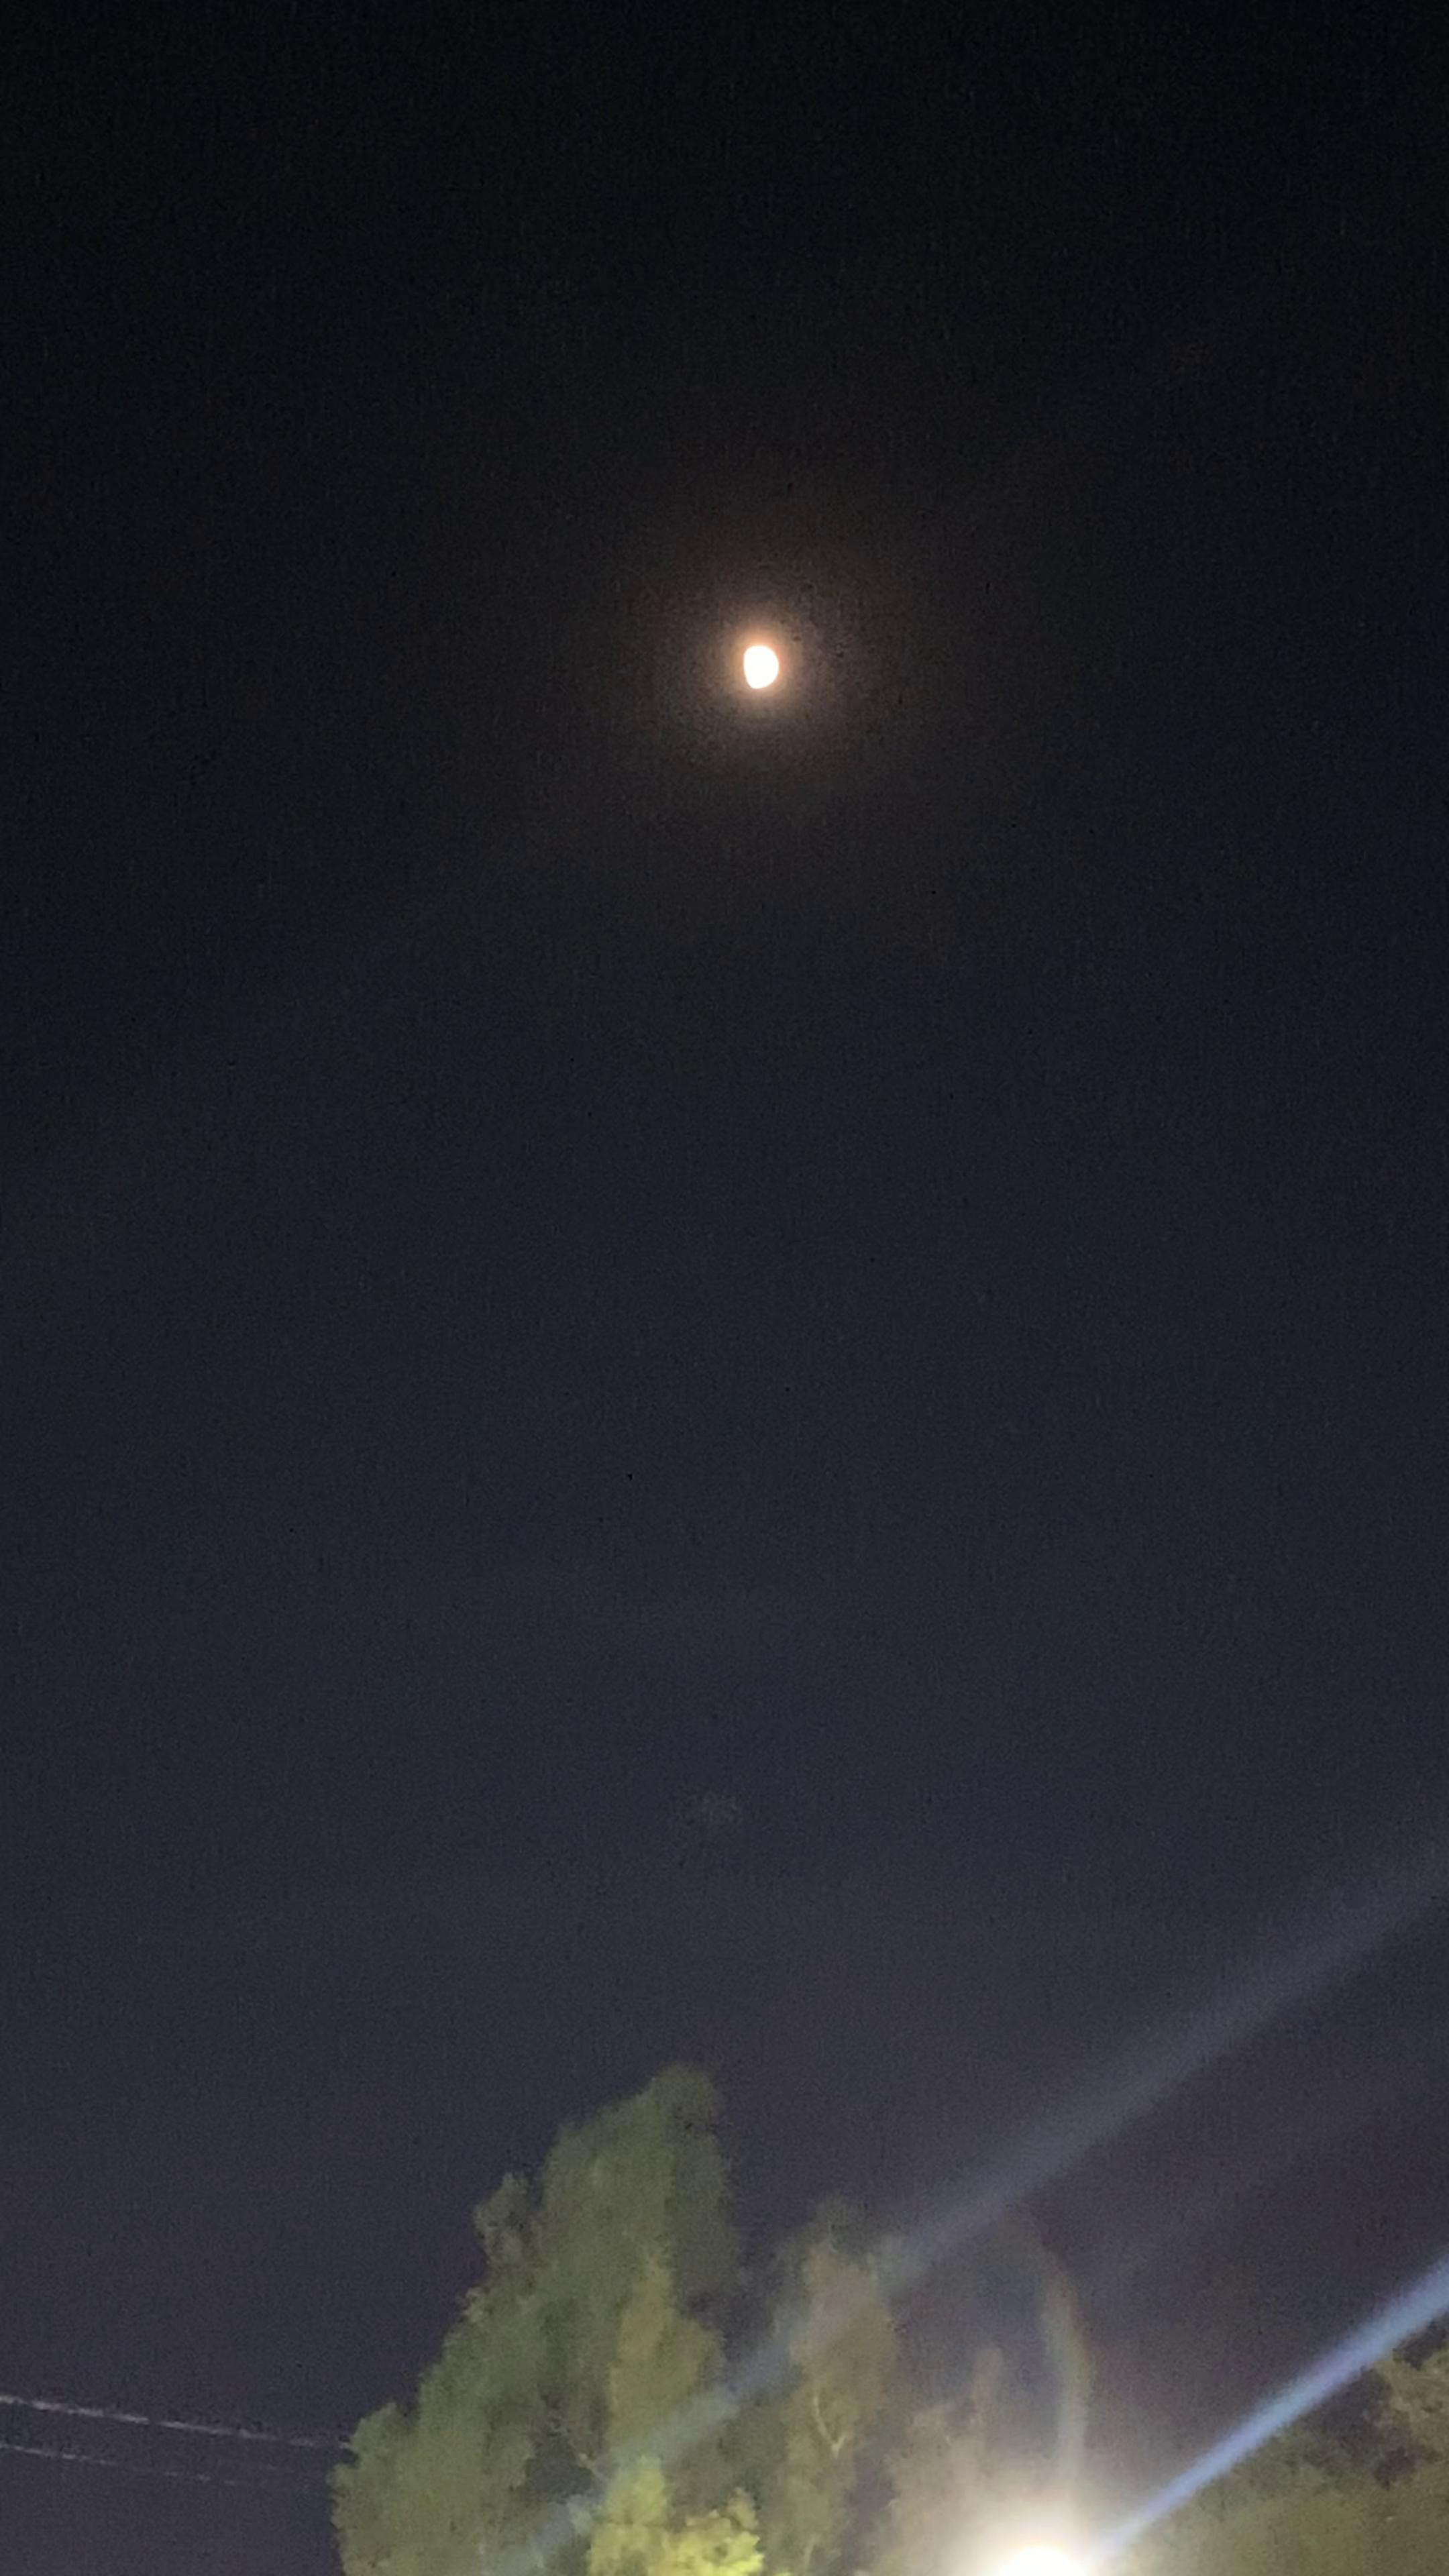moon: (702, 600, 828, 713)
